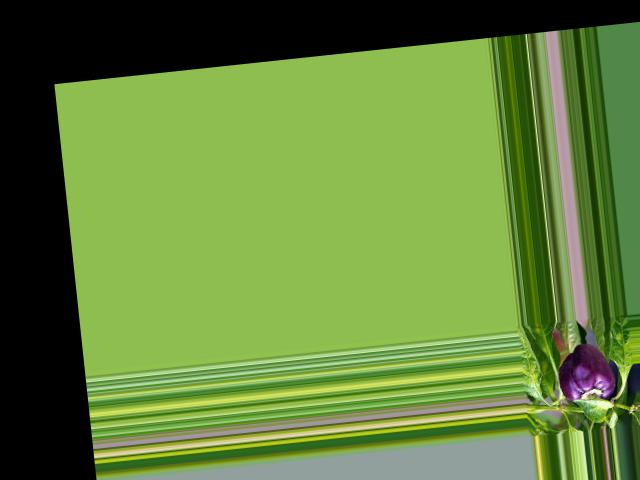bell_pepper: (553, 338, 617, 410)
